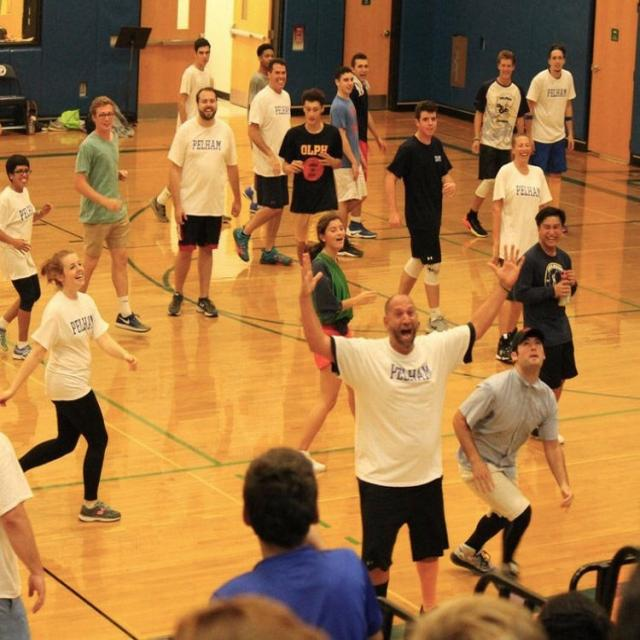body: (297, 242, 526, 618), (0, 246, 143, 526), (202, 448, 391, 640), (170, 563, 640, 639), (447, 323, 576, 588), (295, 213, 381, 475), (62, 93, 153, 335), (163, 85, 244, 319), (154, 312, 230, 550), (507, 204, 580, 446), (384, 98, 457, 334), (72, 334, 139, 591), (489, 130, 555, 364), (229, 269, 303, 476), (231, 56, 296, 268), (462, 48, 532, 240), (147, 35, 215, 224), (276, 87, 346, 267), (0, 405, 49, 640), (457, 236, 528, 397), (0, 153, 52, 362), (524, 43, 579, 236), (0, 355, 49, 528), (344, 52, 388, 241), (328, 64, 370, 260), (242, 41, 278, 215)
